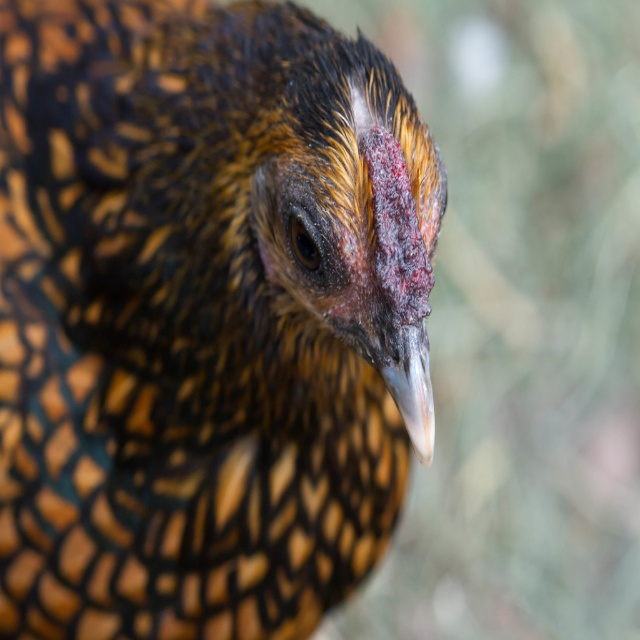Chicken: (0, 0, 448, 640)
